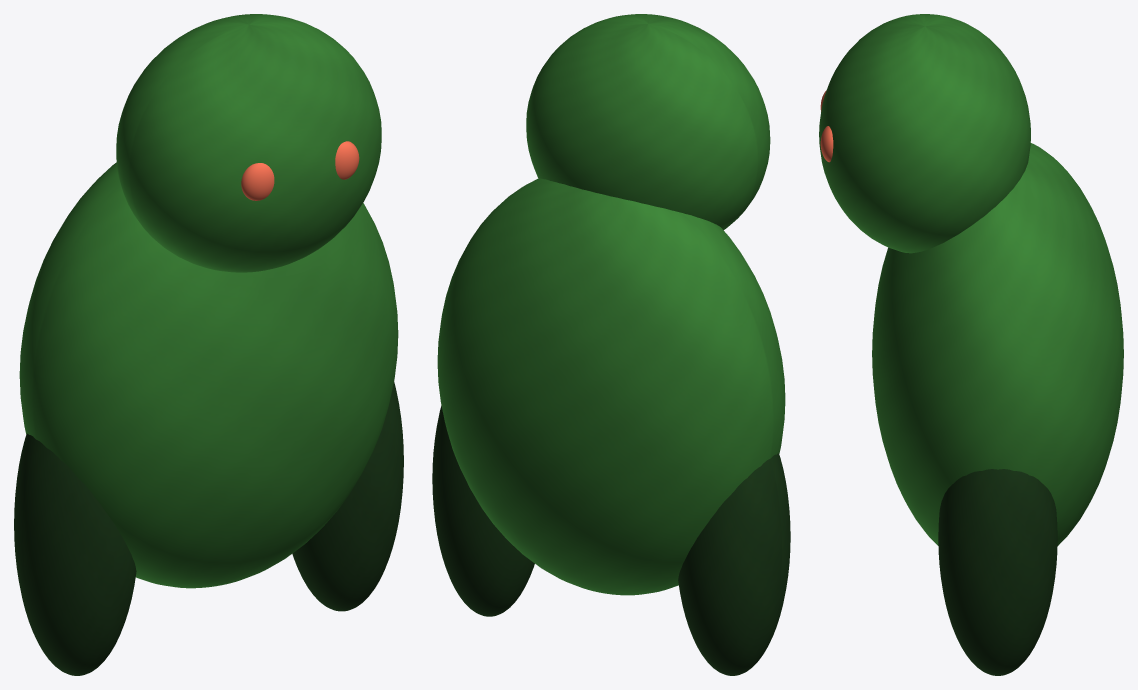
The model's file is monster_Goblin.glb.
The picture shows the model from 3 angles, left to right: view 1: azimuth 30°, elevation 25°; view 2: azimuth 150°, elevation 25°; view 3: azimuth 270°, elevation 25°; orthographic projection. The views are drawn at different scales.
Visible parts, largest first — view 1: Body, Head, Leg, Leg.001, Eye, Eye.001; view 2: Body, Head, Leg, Leg.001; view 3: Body, Head, Leg.001.
Boxes of the visible parts, x1=… form: Body: x1=19, y1=162, x2=398, y2=588; Head: x1=116, y1=14, x2=381, y2=272; Leg: x1=14, y1=433, x2=136, y2=675; Leg.001: x1=292, y1=381, x2=403, y2=611; Eye: x1=241, y1=163, x2=274, y2=200; Eye.001: x1=335, y1=141, x2=359, y2=179; Body: x1=437, y1=178, x2=785, y2=595; Head: x1=526, y1=14, x2=770, y2=230; Leg: x1=678, y1=453, x2=790, y2=675; Leg.001: x1=432, y1=405, x2=534, y2=616; Body: x1=872, y1=143, x2=1123, y2=545; Head: x1=819, y1=14, x2=1030, y2=253; Leg.001: x1=938, y1=469, x2=1057, y2=675.
Size of the model in its own units: 1.18 by 1.96 by 0.92.
Materials: 3 (2 with a texture image).
